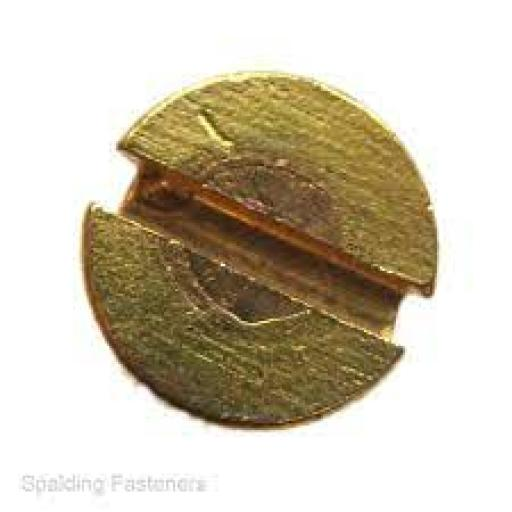Slotted: (85, 72, 433, 427)
